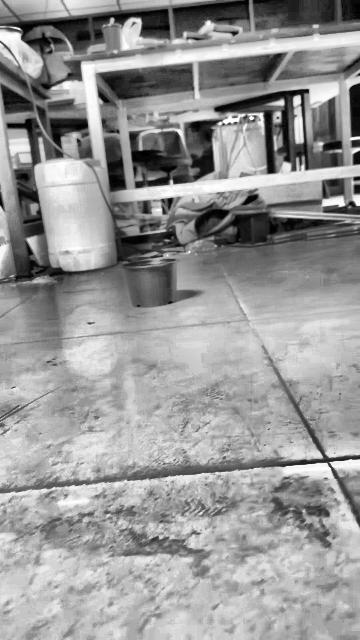pot: (121, 257, 179, 307)
